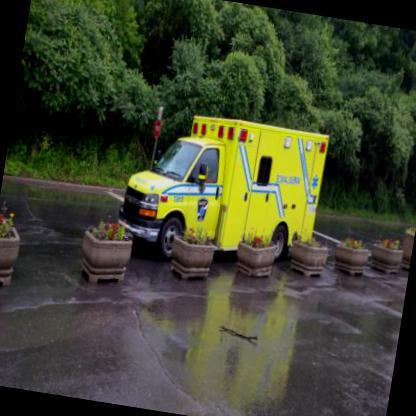truck: (110, 102, 330, 278)
